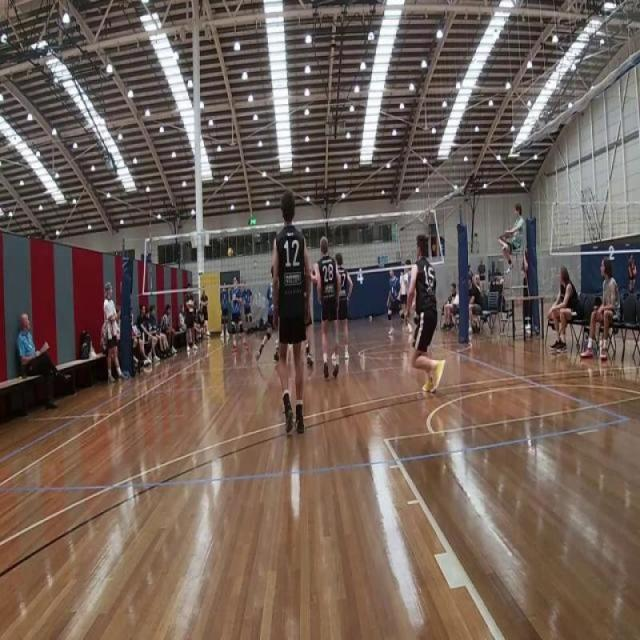volleyball: (226, 247, 234, 258)
